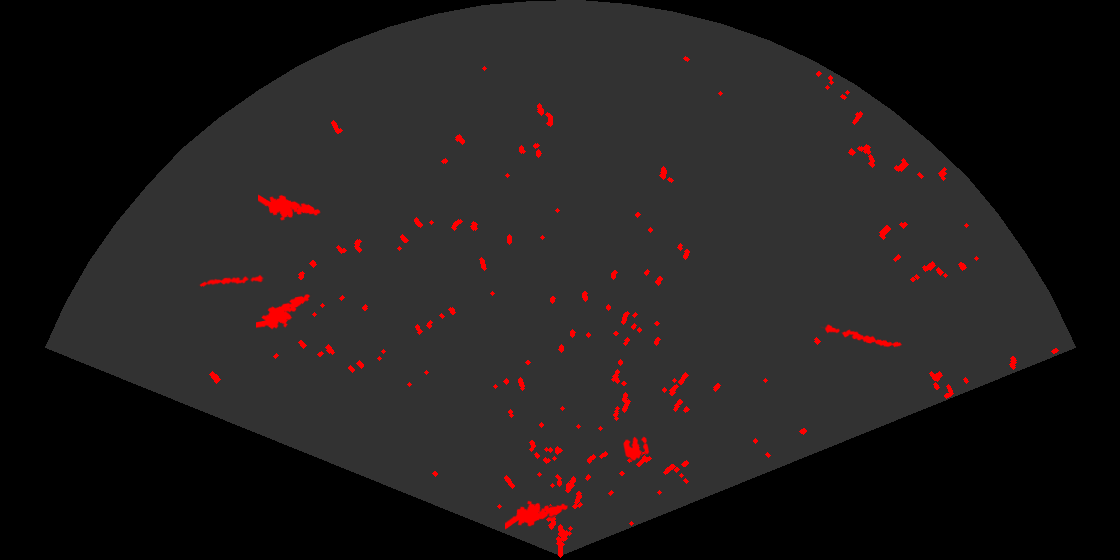ball: (622, 435, 651, 462)
chain: (819, 323, 903, 349), (198, 273, 264, 288)
frogman: (256, 293, 312, 331), (505, 499, 570, 531), (258, 193, 322, 222)
